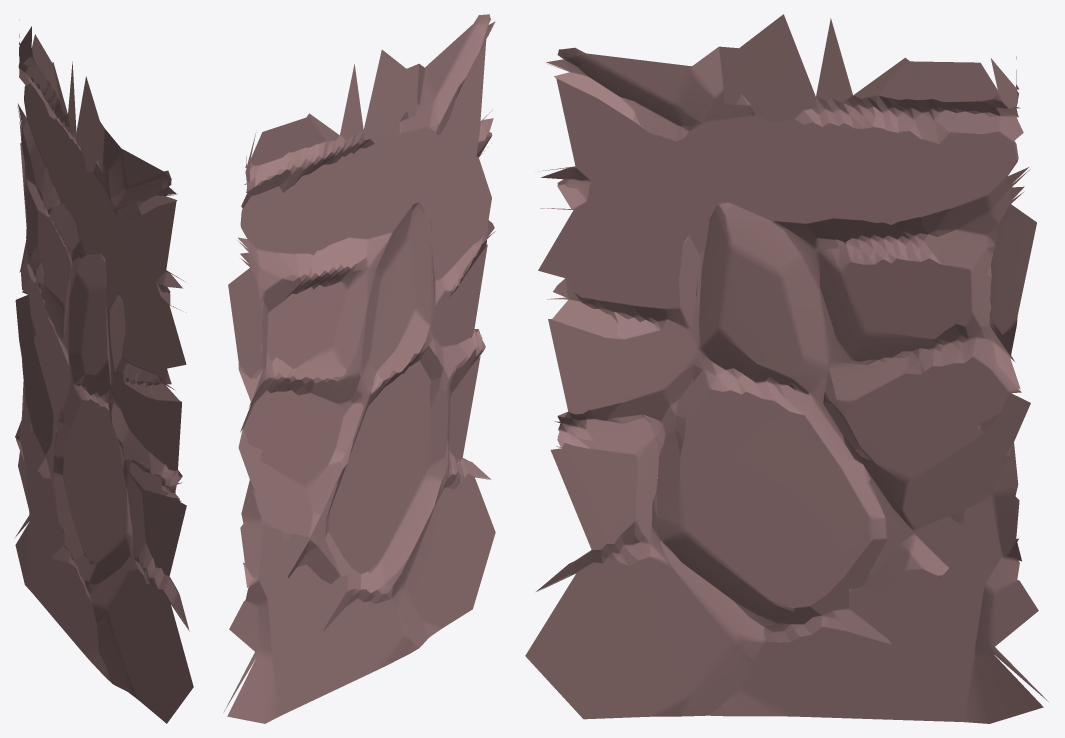
Rendered from cliff_area_2.fbx_Cliff_Area_2_025LODs.fbx.
The picture shows the model from 3 angles, left to right: view 1: azimuth 30°, elevation 25°; view 2: azimuth 150°, elevation 25°; view 3: azimuth 270°, elevation 25°; orthographic projection. The views are drawn at different scales.
Parts seen in each view (by area): view 1: Cliff Area 2.025_LOD0; view 2: Cliff Area 2.025_LOD0; view 3: Cliff Area 2.025_LOD0.
Boxes of the visible parts, x1,y1,x2,y2 form: Cliff Area 2.025_LOD0: [14, 19, 193, 723]; Cliff Area 2.025_LOD0: [223, 14, 495, 723]; Cliff Area 2.025_LOD0: [525, 14, 1048, 723].
Size of what is drawn, in the model's own units: 377 by 3964 by 2672.
